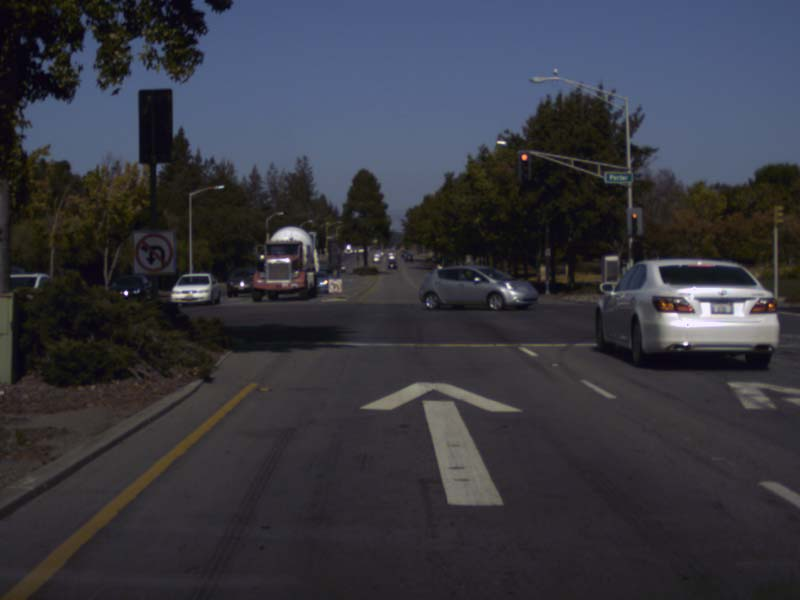Red: (518, 152, 529, 180), (630, 210, 636, 235)
